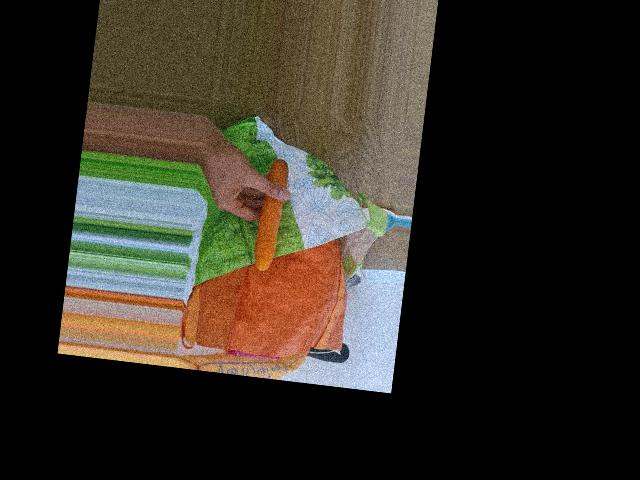carrot: (256, 158, 288, 269)
